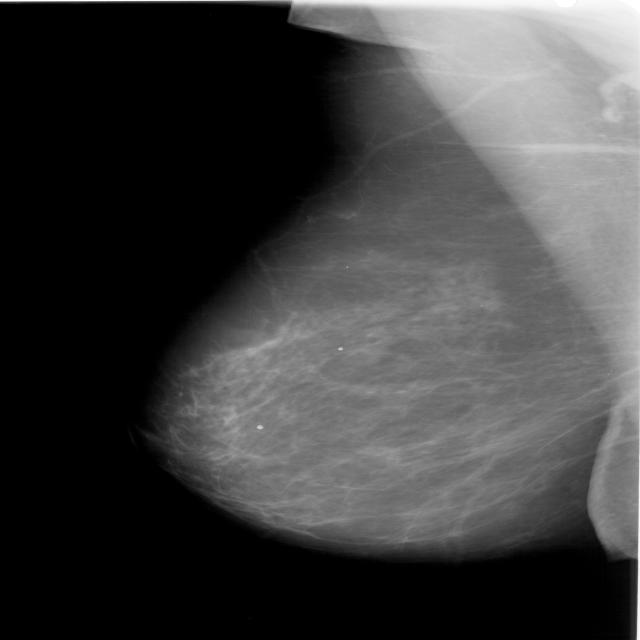normal: (140, 12, 640, 562)
